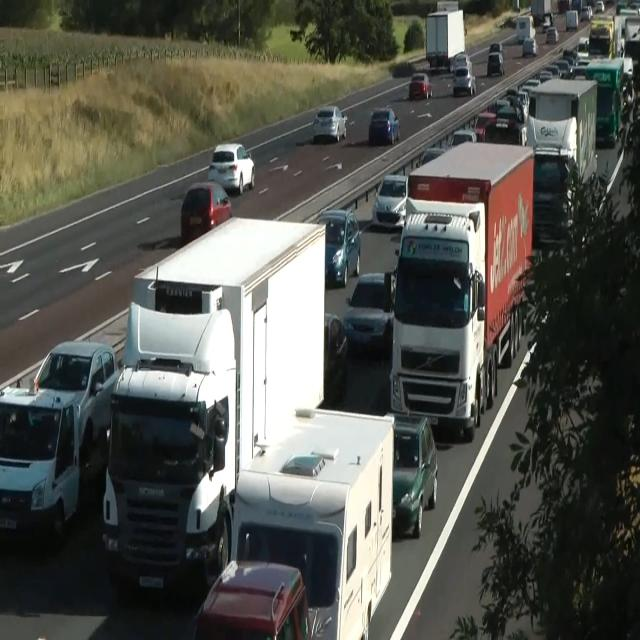bus: (31, 340, 119, 450), (193, 559, 311, 639), (384, 412, 438, 538), (342, 271, 394, 355), (315, 208, 361, 287), (180, 180, 232, 247), (207, 142, 255, 194), (323, 312, 347, 403), (372, 173, 408, 230), (368, 106, 400, 146), (313, 105, 347, 142), (452, 64, 476, 96), (472, 111, 496, 141), (408, 72, 432, 100), (416, 147, 446, 168), (448, 128, 476, 148), (620, 73, 634, 113), (487, 52, 505, 76), (451, 52, 469, 74), (616, 0, 640, 15), (522, 37, 538, 57), (546, 26, 558, 44), (580, 6, 592, 22), (489, 42, 503, 55), (593, 0, 604, 12), (542, 19, 550, 33)
car: (101, 299, 238, 596), (222, 406, 394, 638), (0, 338, 118, 544)
minibus: (101, 215, 327, 599), (389, 141, 534, 439), (521, 77, 597, 249), (585, 56, 633, 146), (425, 3, 467, 72), (515, 14, 535, 43)
